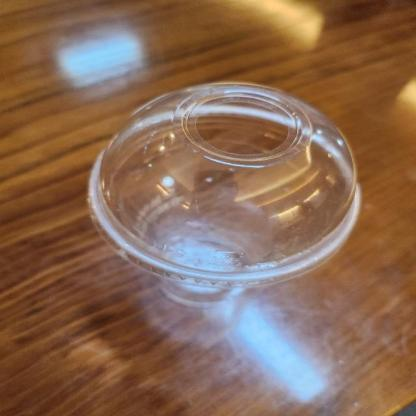Plastic Cup: (86, 85, 364, 305)
